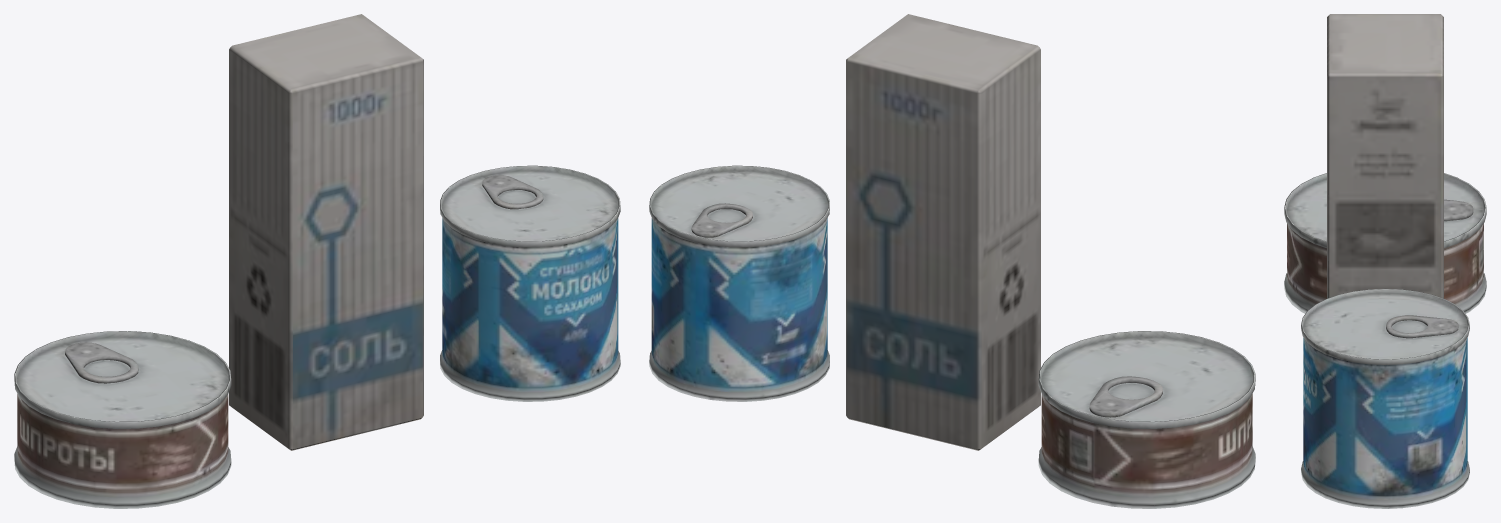
File: russian_food_cans_01.glb
The picture shows the model from 3 angles, left to right: view 1: azimuth 30°, elevation 25°; view 2: azimuth 150°, elevation 25°; view 3: azimuth 270°, elevation 25°; orthographic projection. The views are drawn at different scales.
Visible parts, largest first — view 1: russian_food_cans_01_salt_box; view 2: russian_food_cans_01_salt_box; view 3: russian_food_cans_01_salt_box.
Boxes of the visible parts, x1,y1,x2,y2 form: russian_food_cans_01_salt_box: [14, 14, 620, 508]; russian_food_cans_01_salt_box: [649, 14, 1255, 508]; russian_food_cans_01_salt_box: [1284, 14, 1486, 508].
Bounding box in the file's own units: 0.1424 × 0.0849 × 0.0462.
Materials: 1 (1 with a texture image).
